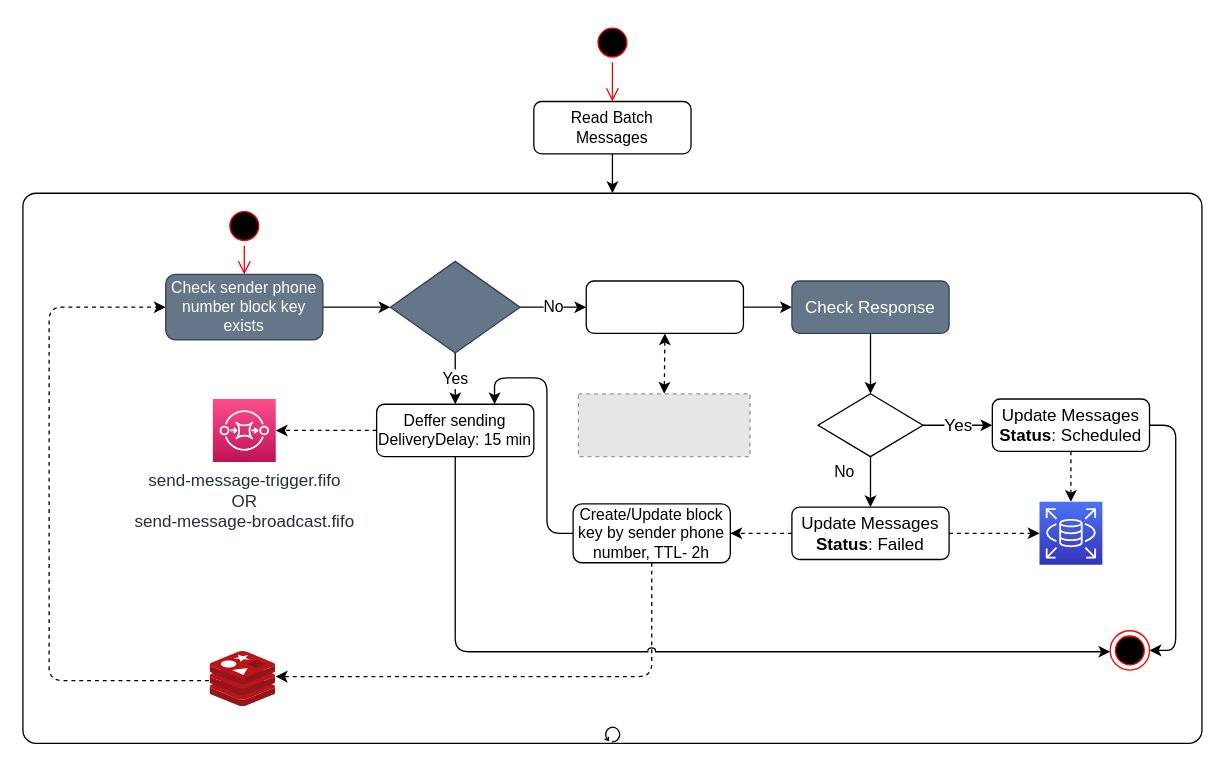
Image size: 1225x766. Some labels were removed from this diagram. Grey dashed boxes stand in for pictures. Each missing label, with the centre of its shape:
Phone Number is blocked?: point 454,306
Redis: point 242,678
Send to Twilio: point 664,306
Succes?: point 870,424
